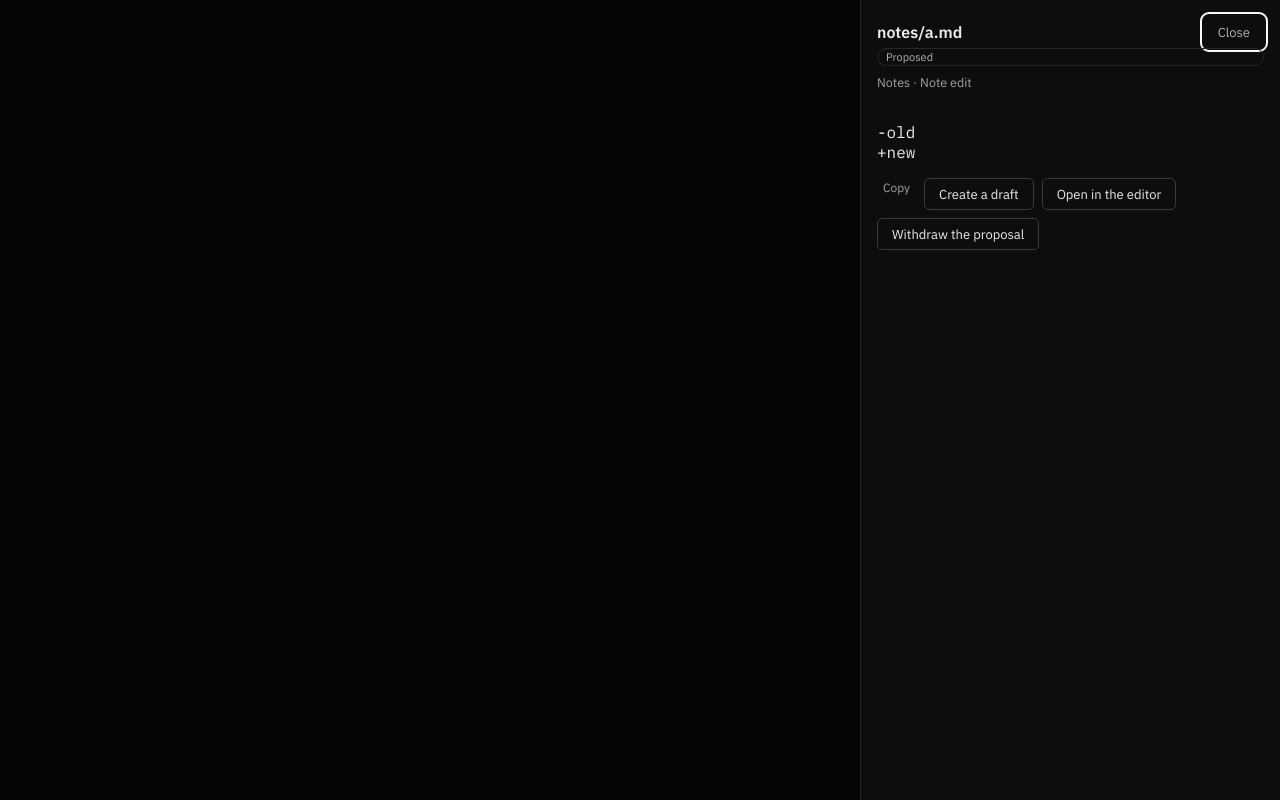
Test: hand-off records it, then passes the message on, and shows the returned state
This screenshot has width=1280, height=800.
Click the button "Create a draft": click(979, 194) 924,178 -> 1034,210
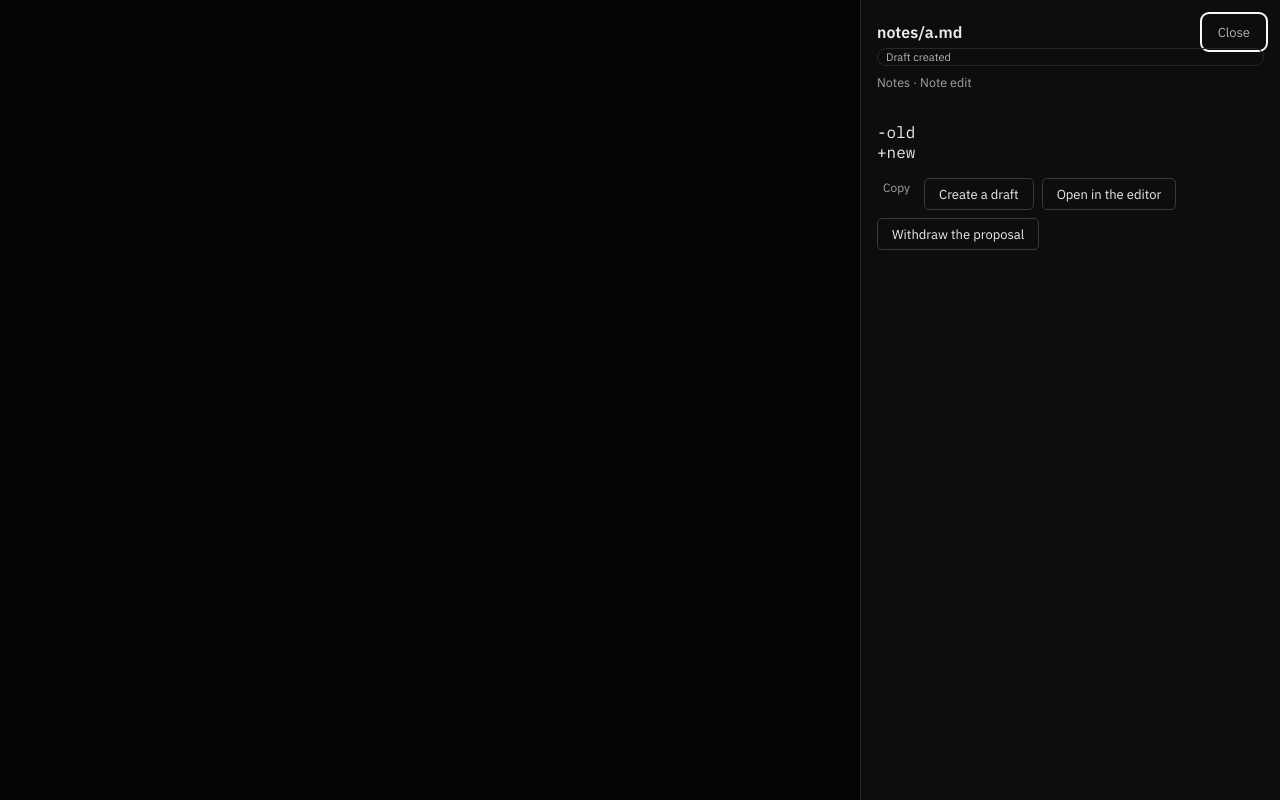
Expected: the text with class "state-chip" reads "Draft created", 886,50 -> 951,64
